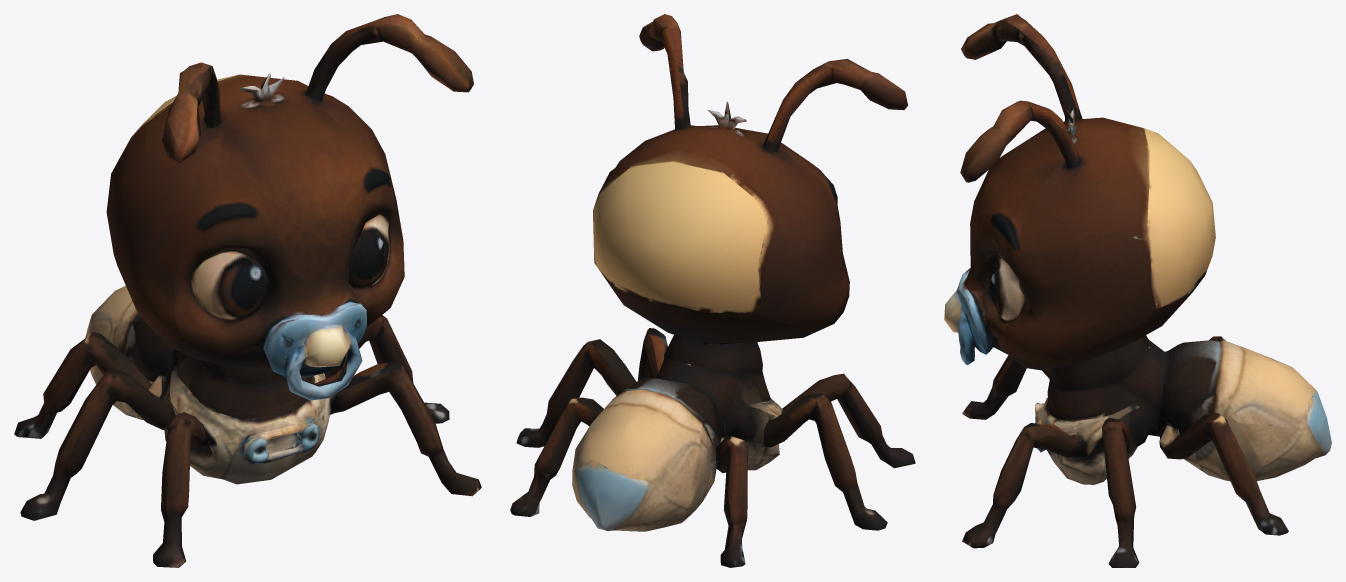
File: BabyAnt.glb
3 views of the same model, side by side, from view 1: azimuth 30°, elevation 25°; view 2: azimuth 150°, elevation 25°; view 3: azimuth 270°, elevation 25° (orthographic). The views are drawn at different scales.
Bounding box in the file's own units: 1.88 × 1.98 × 1.67.
Materials: 1 (1 with a texture image).
